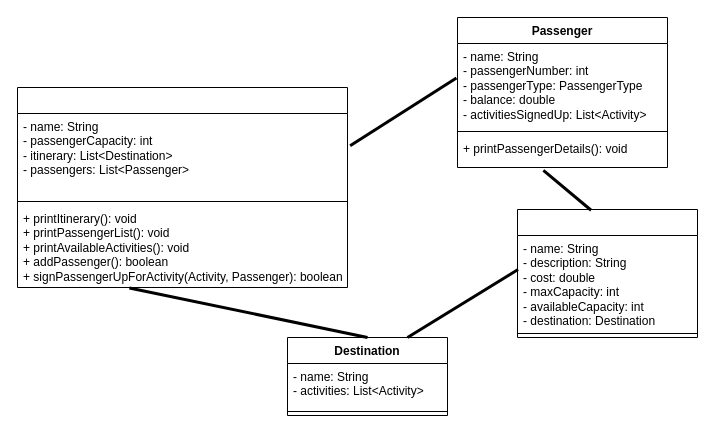
Some shapes in this 715 by 433 pixel diagram are drawn without their labels. The box of each missing label's shape, as (x1, y1, x2, y2) in pixels:
Activity: (516, 208, 698, 338)
TravelPackage: (16, 86, 348, 288)
